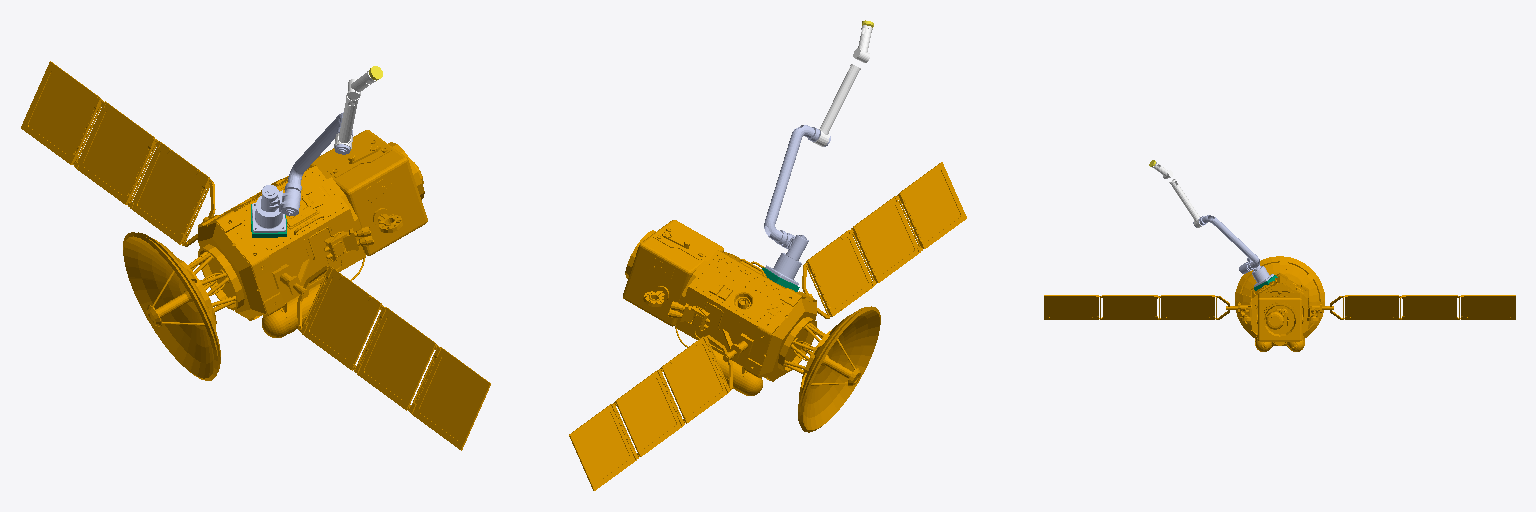
robot.urdf — sputnik__starlink_sldasm9:
<?xml version='1.0' encoding='utf-8'?>
<robot name="sputnik__starlink_sldasm9">
  <link name="base_link">
    <visual>
      <geometry>
        <mesh filename="../satellites/sputnik/satellite.stl" />
      </geometry>
    </visual>
    <collision>
      <geometry>
        <mesh filename="../satellites/sputnik/satellite.stl" />
      </geometry>
    </collision>
  </link>
  <link name="sputnik_mount" />
  <joint name="satellite_mount_fixed" type="fixed">
    <parent link="base_link" />
    <child link="sputnik_mount" />
    <origin xyz="-0.3409793727239791 -0.2415249735665143 1.3379246962589" rpy="2.220446049250313e-16 -0.6000516122871551 1.0874598085095768" />
  </joint>
  <link name="mount_support">
    <visual>
      <geometry>
        <mesh filename="../satellites/sputnik/mount_support.stl" />
      </geometry>
    </visual>
    <collision>
      <geometry>
        <mesh filename="../satellites/sputnik/mount_support.stl" />
      </geometry>
    </collision>
  </link>
  <joint name="support_fixed" type="fixed">
    <parent link="sputnik_mount" />
    <child link="mount_support" />
    <origin xyz="0 0 0" rpy="0 0 0" />
  </joint>
  <joint name="arm_adapter_fixed" type="fixed">
    <parent link="sputnik_mount" />
    <child link="starlink_space_manipulator_base_link" />
    <origin xyz="0.009087204933166504 0.008519247174263 0.16000000119209293" rpy="-1.5707963267948966 0 0.0" />
  </joint>
  <link name="starlink_space_manipulator_base_link">
    <inertial>
      <origin xyz="-0.00908719924946466 0.0225428225681148 -0.00851924929637313" rpy="0 0 0" />
      <mass value="8.66024015898073" />
      <inertia ixx="0.0960303512697639" ixy="1.65511904636803E-18" ixz="6.22039820639877E-19" iyy="0.103454922260914" iyz="-9.68471289978311E-19" izz="0.0960303512697639" />
    </inertial>
    <visual>
      <origin xyz="0 0 0" rpy="0 0 0" />
      <geometry>
        <mesh filename="../arms/starlink_sldasm9/meshes/starlink_space_manipulator_base_link.STL" />
      </geometry>
      <material name="">
        <color rgba="0.792156862745098 0.819607843137255 0.933333333333333 1" />
      </material>
    </visual>
    <collision>
      <origin xyz="0 0 0" rpy="0 0 0" />
      <geometry>
        <mesh filename="../arms/starlink_sldasm9/meshes/starlink_space_manipulator_base_link.STL" />
      </geometry>
    </collision>
  </link>
  <link name="starlink_space_manipulator_Shoulder_link_1">
    <inertial>
      <origin xyz="-0.000399471745595769 -0.100006574194712 -0.17423940484461" rpy="0 0 0" />
      <mass value="5.16309216784981" />
      <inertia ixx="0.0524543852135592" ixy="0.00348154867667969" ixz="6.96526910910627E-05" iyy="0.0306595326318824" iyz="-0.00056674368052247" izz="0.0439979075615329" />
    </inertial>
    <visual>
      <origin xyz="0 0 0" rpy="0 0 0" />
      <geometry>
        <mesh filename="../arms/starlink_sldasm9/meshes/starlink_space_manipulator_Shoulder_link_1.STL" />
      </geometry>
      <material name="">
        <color rgba="0.792156862745098 0.819607843137255 0.933333333333333 1" />
      </material>
    </visual>
    <collision>
      <origin xyz="0 0 0" rpy="0 0 0" />
      <geometry>
        <mesh filename="../arms/starlink_sldasm9/meshes/starlink_space_manipulator_Shoulder_link_1.STL" />
      </geometry>
    </collision>
  </link>
  <joint name="starlink_space_manipulator_Shoulder_link_1_yaw" type="revolute">
    <origin xyz="-0.0090872 -0.065 -0.0085192" rpy="1.5708 -0.15574 3.1416" />
    <parent link="starlink_space_manipulator_base_link" />
    <child link="starlink_space_manipulator_Shoulder_link_1" />
    <axis xyz="0 0 -1" />
    <limit lower="-3.14" upper="3.14" effort="0" velocity="0" />
  </joint>
  <link name="starlink_space_manipulator_Upper_arm_Link_1">
    <inertial>
      <origin xyz="0.402106341472203 -0.696465272634528 -0.170177523085579" rpy="0 0 0" />
      <mass value="5.05309869040685" />
      <inertia ixx="0.388719013133801" ixy="0.210155896498943" ixz="9.30829370680679E-08" iyy="0.146049057575642" iyz="1.71830458004218E-07" izz="0.500677708275447" />
    </inertial>
    <visual>
      <origin xyz="0 0 0" rpy="0 0 0" />
      <geometry>
        <mesh filename="../arms/starlink_sldasm9/meshes/starlink_space_manipulator_Upper_arm_Link_1.STL" />
      </geometry>
      <material name="">
        <color rgba="0.792156862745098 0.819607843137255 0.933333333333333 1" />
      </material>
    </visual>
    <collision>
      <origin xyz="0 0 0" rpy="0 0 0" />
      <geometry>
        <mesh filename="../arms/starlink_sldasm9/meshes/starlink_space_manipulator_Upper_arm_Link_1.STL" />
      </geometry>
    </collision>
  </link>
  <joint name="starlink_space_manipulator_Upper_arm_Link_1_roll" type="revolute">
    <origin xyz="0 -0.2 -0.18" rpy="1.5708 0.90646 1.5708" />
    <parent link="starlink_space_manipulator_Shoulder_link_1" />
    <child link="starlink_space_manipulator_Upper_arm_Link_1" />
    <axis xyz="0 0 -1" />
    <limit lower="-2" upper="1.5" effort="0" velocity="0" />
  </joint>
  <link name="starlink_space_manipulator_Mid_arm_Link_1">
    <inertial>
      <origin xyz="-0.000406052776441013 0.317722269561105 0.0155331755135703" rpy="0 0 0" />
      <mass value="1.57635531881168" />
      <inertia ixx="0.133610363618846" ixy="5.33750993405138E-05" ixz="-3.60473795202962E-09" iyy="0.00502119434334708" iyz="-2.514275749911E-05" izz="0.134586018527477" />
    </inertial>
    <visual>
      <origin xyz="0 0 0" rpy="0 0 0" />
      <geometry>
        <mesh filename="../arms/starlink_sldasm9/meshes/starlink_space_manipulator_Mid_arm_Link_1.STL" />
      </geometry>
      <material name="">
        <color rgba="1 1 1 1" />
      </material>
    </visual>
    <collision>
      <origin xyz="0 0 0" rpy="0 0 0" />
      <geometry>
        <mesh filename="../arms/starlink_sldasm9/meshes/starlink_space_manipulator_Mid_arm_Link_1.STL" />
      </geometry>
    </collision>
  </link>
  <joint name="starlink_space_manipulator_Mid_arm_Link_1_roll" type="revolute">
    <origin xyz="0.599999999999673 -1.03923048454122 0" rpy="-3.14159265358979 0 0.828250280535091" />
    <parent link="starlink_space_manipulator_Upper_arm_Link_1" />
    <child link="starlink_space_manipulator_Mid_arm_Link_1" />
    <axis xyz="0 0 -1" />
    <limit lower="-3.14" upper="3.14" effort="0" velocity="0" />
  </joint>
  <link name="starlink_space_manipulator_Upper_wrist_Link_1">
    <inertial>
      <origin xyz="-0.000400003664721815 -0.201565878030355 -0.00216705855311664" rpy="0 0 0" />
      <mass value="0.994770641034713" />
      <inertia ixx="0.00165409639029414" ixy="-7.59103925411082E-06" ixz="-3.17403155320863E-06" iyy="0.00201437937768072" iyz="2.63246464091218E-06" izz="0.00159638838344539" />
    </inertial>
    <visual>
      <origin xyz="0 0 0" rpy="0 0 0" />
      <geometry>
        <mesh filename="../arms/starlink_sldasm9/meshes/starlink_space_manipulator_Upper_wrist_Link_1.STL" />
      </geometry>
      <material name="">
        <color rgba="0.792156862745098 0.819607843137255 0.933333333333333 1" />
      </material>
    </visual>
    <collision>
      <origin xyz="0 0 0" rpy="0 0 0" />
      <geometry>
        <mesh filename="../arms/starlink_sldasm9/meshes/starlink_space_manipulator_Upper_wrist_Link_1.STL" />
      </geometry>
    </collision>
  </link>
  <joint name="starlink_space_manipulator_Upper_wrist_Link_1_yaw" type="revolute">
    <origin xyz="-0.00050155183276912 0.686793643713439 0.0155010481432086" rpy="0 -0.0763876794035917 3.14159265358979" />
    <parent link="starlink_space_manipulator_Mid_arm_Link_1" />
    <child link="starlink_space_manipulator_Upper_wrist_Link_1" />
    <axis xyz="0 -1 0" />
    <limit lower="-3.14" upper="3.14" effort="0" velocity="0" />
  </joint>
  <link name="starlink_space_manipulator_Upper_wrist_Link_2">
    <inertial>
      <origin xyz="8.45304168883843E-08 0.0848318719623631 -0.00515657391755576" rpy="0 0 0" />
      <mass value="1.03716823037577" />
      <inertia ixx="0.0100970561498589" ixy="1.32295633551837E-09" ixz="-9.43675929999229E-09" iyy="0.00222325407426665" iyz="-2.08772874866187E-06" izz="0.0105840577017538" />
    </inertial>
    <visual>
      <origin xyz="0 0 0" rpy="0 0 0" />
      <geometry>
        <mesh filename="../arms/starlink_sldasm9/meshes/starlink_space_manipulator_Upper_wrist_Link_2.STL" />
      </geometry>
      <material name="">
        <color rgba="1 1 1 1" />
      </material>
    </visual>
    <collision>
      <origin xyz="0 0 0" rpy="0 0 0" />
      <geometry>
        <mesh filename="../arms/starlink_sldasm9/meshes/starlink_space_manipulator_Upper_wrist_Link_2.STL" />
      </geometry>
    </collision>
  </link>
  <joint name="starlink_space_manipulator_Upper_wrist_Link_2_roll" type="revolute">
    <origin xyz="0 -0.30020635628656 0" rpy="-0.0158640776811277 -0.0317448426184613 -2.67805461574742" />
    <parent link="starlink_space_manipulator_Upper_wrist_Link_1" />
    <child link="starlink_space_manipulator_Upper_wrist_Link_2" />
    <axis xyz="0 0 1" />
    <limit lower="-2.5" upper="1.8" effort="0" velocity="0" />
  </joint>
  <link name="starlink__space_manipulator_2F-Body_Link">
    </link>
  <joint name="starlink__space_manipulator_2F-Body_Link_yaw" type="revolute">
    <origin xyz="0 0.34845 -0.0053813" rpy="-3.1416 0.93592 0" />
    <parent link="starlink_space_manipulator_Upper_wrist_Link_2" />
    <child link="starlink__space_manipulator_2F-Body_Link" />
    <axis xyz="0 -1 0" />
    <limit lower="-3.14" upper="3.14" effort="0" velocity="0" />
  </joint>
  <link name="angular_hand">
    <visual>
      <geometry>
        <mesh filename="../arms/starlink_sldasm9/meshes/hand_2finger.STL" scale="2 2 2" />
      </geometry>
    </visual>
    <collision>
      <geometry>
        <mesh filename="../arms/starlink_sldasm9/meshes/hand_2finger.STL" scale="2 2 2" />
      </geometry>
    </collision>
  </link>
  <joint name="angular_hand_fixed" type="fixed">
    <parent link="starlink__space_manipulator_2F-Body_Link" />
    <child link="angular_hand" />
    <origin xyz="0 -0.036 0" rpy="-1.5707963267948966 0 0" />
  </joint>
  <link name="angular_adapter">
    <visual>
      <geometry>
        <mesh filename="../arms/starlink_sldasm9/meshes/angular_adapter.stl" />
      </geometry>
    </visual>
    <collision>
      <geometry>
        <mesh filename="../arms/starlink_sldasm9/meshes/angular_adapter.stl" />
      </geometry>
    </collision>
  </link>
  <joint name="angular_adapter_fixed" type="fixed">
    <parent link="starlink__space_manipulator_2F-Body_Link" />
    <child link="angular_adapter" />
    <origin xyz="0 -0.0005 0" rpy="1.5707963267948966 0 0" />
  </joint>
  <link name="angular_finger_1">
    <visual>
      <geometry>
        <mesh filename="../arms/starlink_sldasm9/meshes/finger_proximal.STL" scale="2 2 2" />
      </geometry>
    </visual>
    <collision>
      <geometry>
        <mesh filename="../arms/starlink_sldasm9/meshes/finger_proximal.STL" scale="2 2 2" />
      </geometry>
    </collision>
  </link>
  <link name="angular_tip_1">
    <visual>
      <geometry>
        <mesh filename="../arms/starlink_sldasm9/meshes/finger_distal.STL" scale="2 2 2" />
      </geometry>
    </visual>
    <collision>
      <geometry>
        <mesh filename="../arms/starlink_sldasm9/meshes/finger_distal.STL" scale="2 2 2" />
      </geometry>
    </collision>
  </link>
  <joint name="angular_joint_1" type="revolute">
    <parent link="angular_hand" />
    <child link="angular_finger_1" />
    <axis xyz="0 0 1" />
    <origin xyz="-0.005 0.0619 -0.22964" rpy="-1.570796327 .649262481663582 1.5707963267948966" />
    <limit lower="0" upper="1.51" effort="2" velocity="1" />
  </joint>
  <joint name="angular_joint_tip_1" type="revolute">
    <parent link="angular_finger_1" />
    <child link="angular_tip_1" />
    <axis xyz="0 0 1" />
    <origin xyz="0.088 -0.006 0.0" rpy="0 0 0" />
    <limit lower="0" upper="2" effort="2" velocity="1" />
  </joint>
  <link name="angular_finger_2">
    <visual>
      <geometry>
        <mesh filename="../arms/starlink_sldasm9/meshes/finger_proximal.STL" scale="2 2 2" />
      </geometry>
    </visual>
    <collision>
      <geometry>
        <mesh filename="../arms/starlink_sldasm9/meshes/finger_proximal.STL" scale="2 2 2" />
      </geometry>
    </collision>
  </link>
  <link name="angular_tip_2">
    <visual>
      <geometry>
        <mesh filename="../arms/starlink_sldasm9/meshes/finger_distal.STL" scale="2 2 2" />
      </geometry>
    </visual>
    <collision>
      <geometry>
        <mesh filename="../arms/starlink_sldasm9/meshes/finger_distal.STL" scale="2 2 2" />
      </geometry>
    </collision>
  </link>
  <joint name="angular_joint_2" type="revolute">
    <parent link="angular_hand" />
    <child link="angular_finger_2" />
    <axis xyz="0 0 1" />
    <origin xyz="-0.005 -0.0619 -0.22964" rpy="-1.570796327 .649262481663582 -1.5707963267948966" />
    <limit lower="0" upper="1.51" effort="2" velocity="1" />
  </joint>
  <joint name="angular_joint_tip_2" type="revolute">
    <parent link="angular_finger_2" />
    <child link="angular_tip_2" />
    <axis xyz="0 0 1" />
    <origin xyz="0.088 -0.006 0.0" rpy="0 0 0" />
    <limit lower="0" upper="2" effort="2" velocity="1" />
  </joint>
  <link name="angular_tcp" />
  <joint name="angular_tcp_fixed" type="fixed">
    <parent link="angular_hand" />
    <child link="angular_tcp" />
    <origin xyz="-0.005 0 -0.34" rpy="3.141592653589793 0 0" />
  </joint>
</robot>

--- What the picture shows (computed from the rendered views, not written in the file) ---
3 views of the same robot in one strip: view 1: azimuth 30°, elevation 25°; view 2: azimuth 150°, elevation 25°; view 3: azimuth 270°, elevation 25° (orthographic).
Robot: sputnik__starlink_sldasm9 — 17 links, 16 joints (10 revolute, 6 fixed); root link base_link; default pose: every joint at zero.
Visible links, largest first — view 1: base_link, starlink_space_manipulator_Upper_arm_Link_1, starlink_space_manipulator_Shoulder_link_1, starlink_space_manipulator_base_link, starlink_space_manipulator_Mid_arm_Link_1; view 2: base_link, starlink_space_manipulator_Upper_arm_Link_1, starlink_space_manipulator_Mid_arm_Link_1, starlink_space_manipulator_base_link, starlink_space_manipulator_Shoulder_link_1; view 3: base_link, starlink_space_manipulator_Upper_arm_Link_1.
Boxes of the visible links, box(x1,y1,x2,y2) form: base_link: box(21, 61, 490, 450); starlink_space_manipulator_Upper_arm_Link_1: box(288, 112, 352, 214); starlink_space_manipulator_Shoulder_link_1: box(261, 182, 301, 215); starlink_space_manipulator_base_link: box(252, 196, 285, 232); starlink_space_manipulator_Mid_arm_Link_1: box(334, 92, 358, 150); base_link: box(569, 162, 966, 490); starlink_space_manipulator_Upper_arm_Link_1: box(764, 125, 830, 241); starlink_space_manipulator_Mid_arm_Link_1: box(813, 64, 860, 146); starlink_space_manipulator_base_link: box(765, 253, 801, 285); starlink_space_manipulator_Shoulder_link_1: box(775, 230, 808, 260); base_link: box(1044, 256, 1515, 351); starlink_space_manipulator_Upper_arm_Link_1: box(1193, 215, 1259, 268).
Size in the robot's own frame: 2.8 by 8 by 3.8 metres.
Meshes: 12 distinct files referenced, 8 mesh visuals loaded (8 binary STL); not drawn: 6 (reference not matched to a file when rendering).
